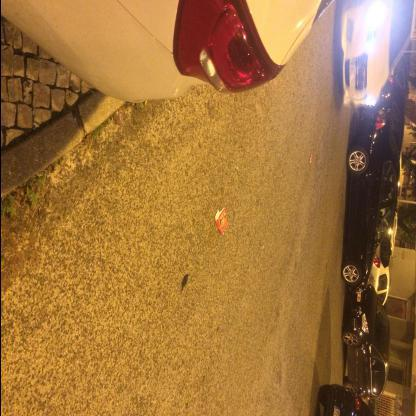karton: (216, 209, 228, 235)
